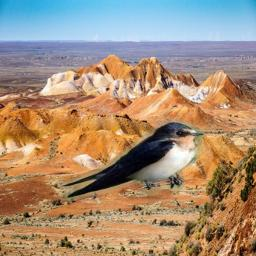Swallow: (61, 120, 205, 201)
